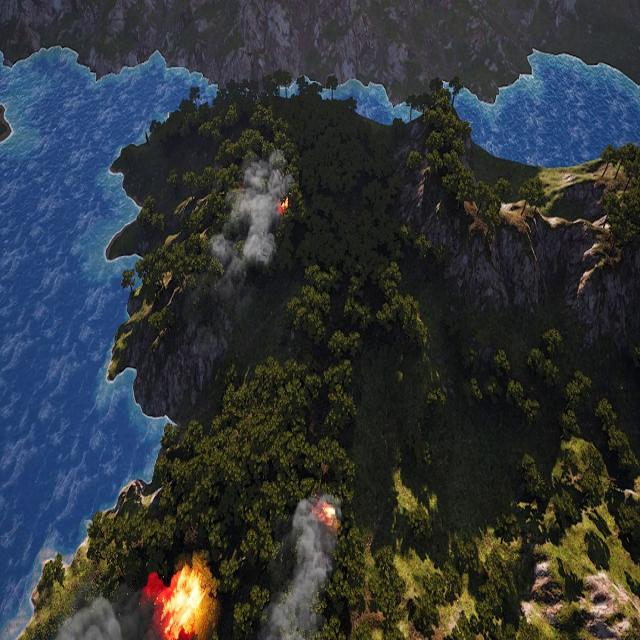fire: (159, 570, 208, 640), (314, 504, 338, 532), (277, 193, 291, 215)
smoke: (238, 500, 343, 640), (212, 152, 291, 289), (58, 573, 164, 640)
